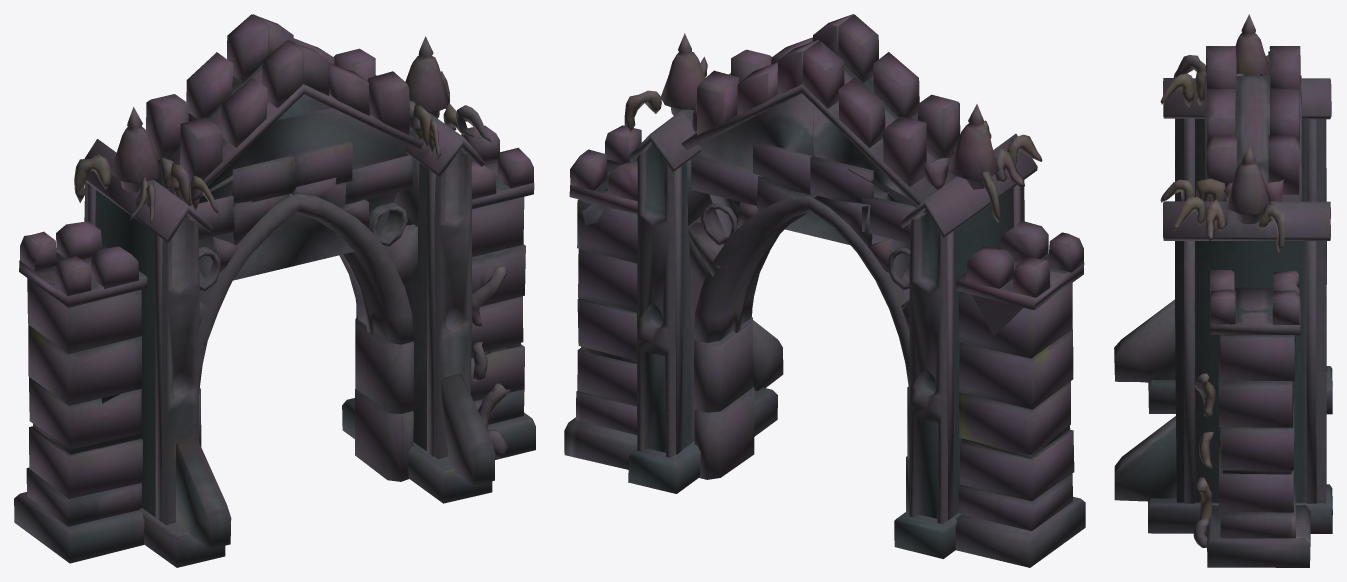
The model's file is castle-arch.glb.
3 views of the same model, side by side, from view 1: azimuth 30°, elevation 25°; view 2: azimuth 150°, elevation 25°; view 3: azimuth 270°, elevation 25° (orthographic). The views are drawn at different scales.
Size of the model in its own units: 1 by 0.9388 by 0.4445.
Materials: 1 (1 with a texture image).
